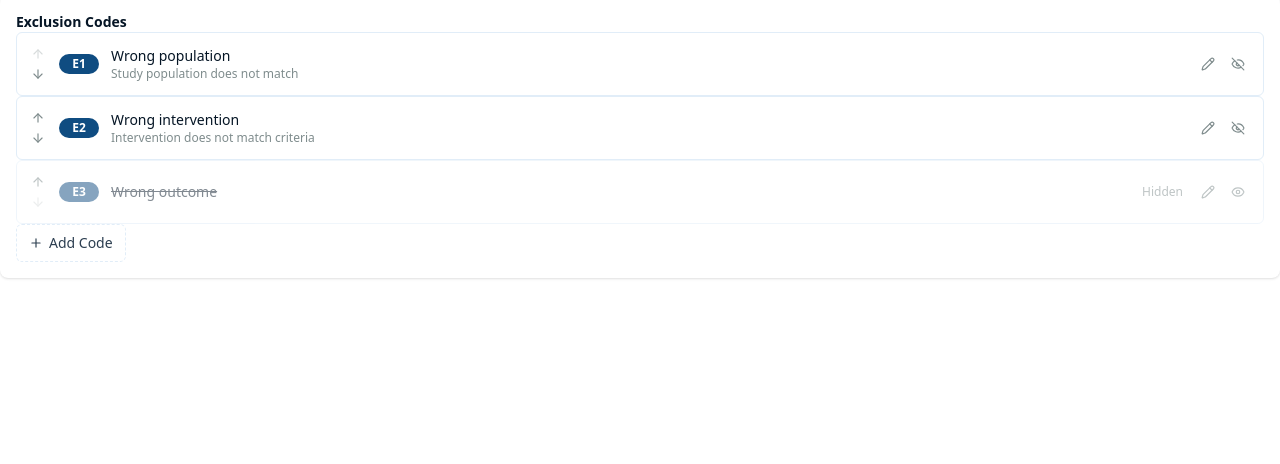
ExclusionCodeManager › submits new code via mutation
Click the button with test id "add-code-button" at (71, 243), box [16, 224, 126, 262]
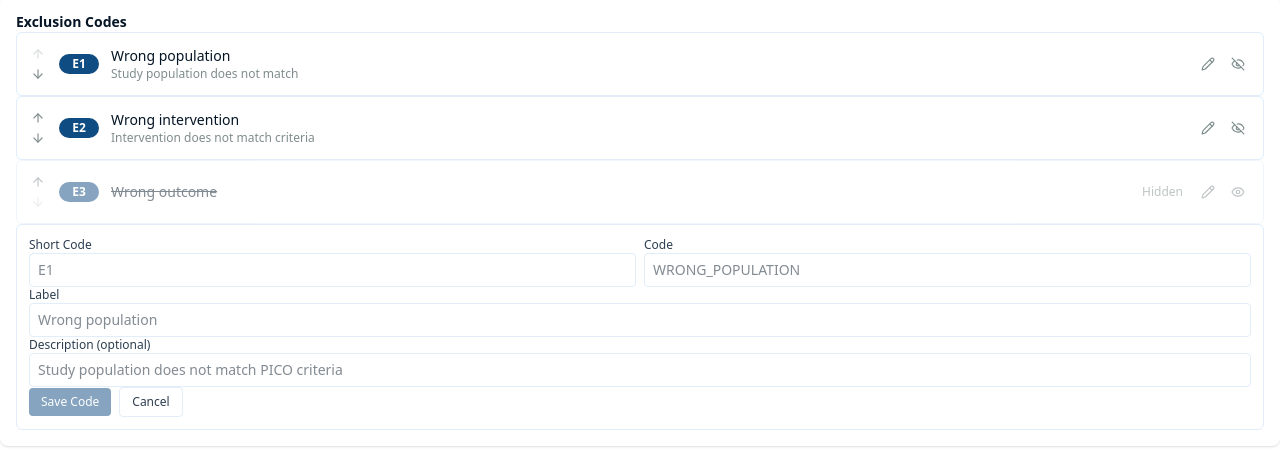
Type "E4" into the field with test id "new-short-code-input" at (332, 270), box [29, 253, 636, 287]
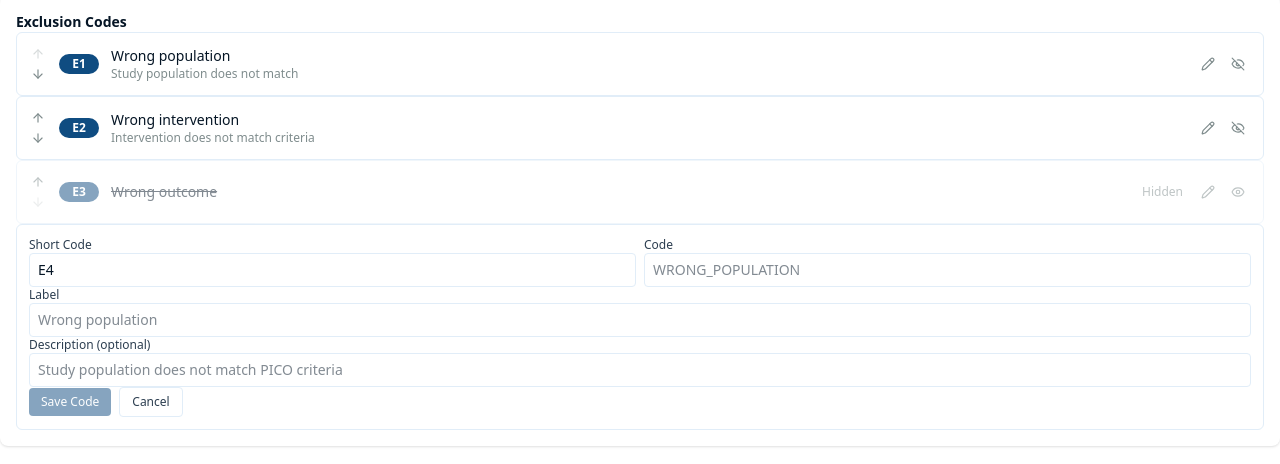
Type "WRONG_DESIGN" into the field with test id "new-code-input" at (948, 270), box [644, 253, 1251, 287]
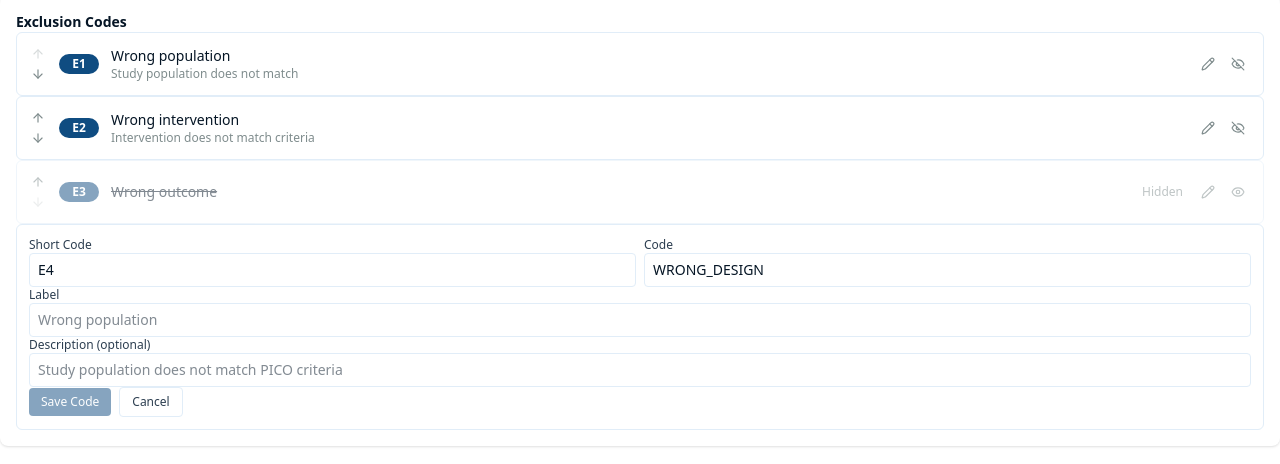
Type "Wrong study design" into the field with test id "new-label-input" at (640, 320), box [29, 303, 1251, 337]
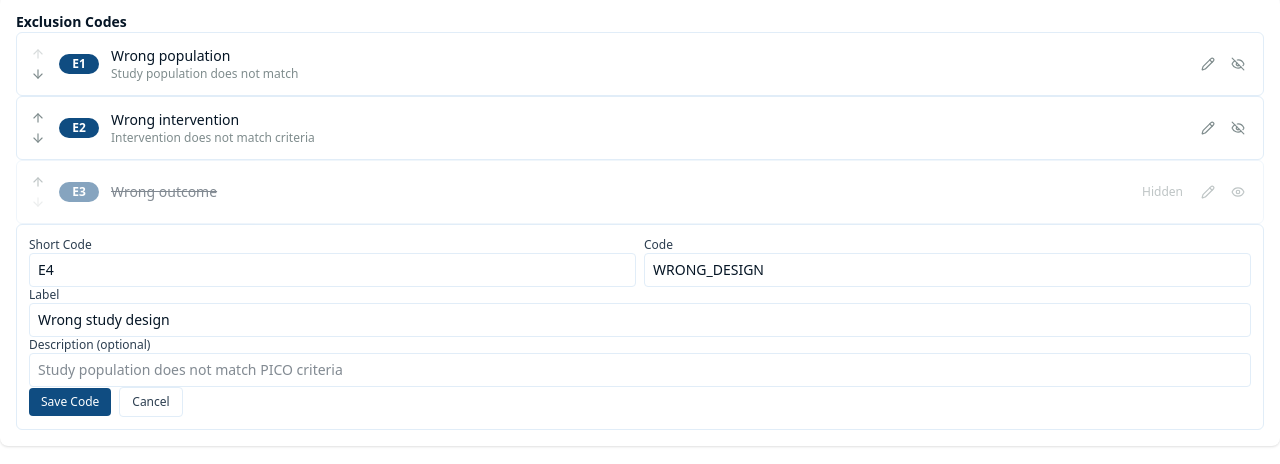
Type "Study design does not match" into the field with test id "new-description-input" at (640, 370), box [29, 353, 1251, 387]
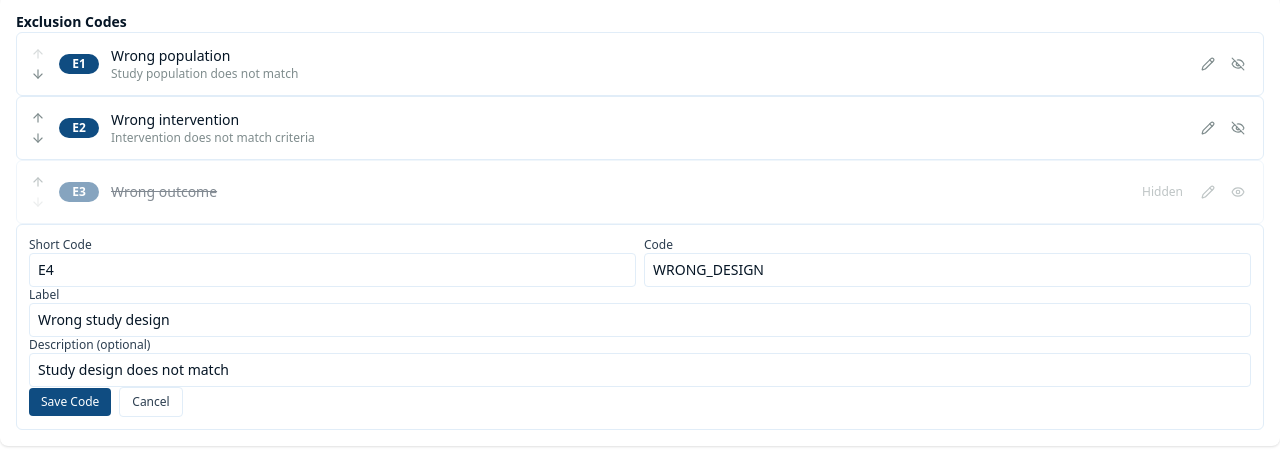
Click the button with test id "save-new-code-button" at (70, 402), box [29, 388, 111, 416]
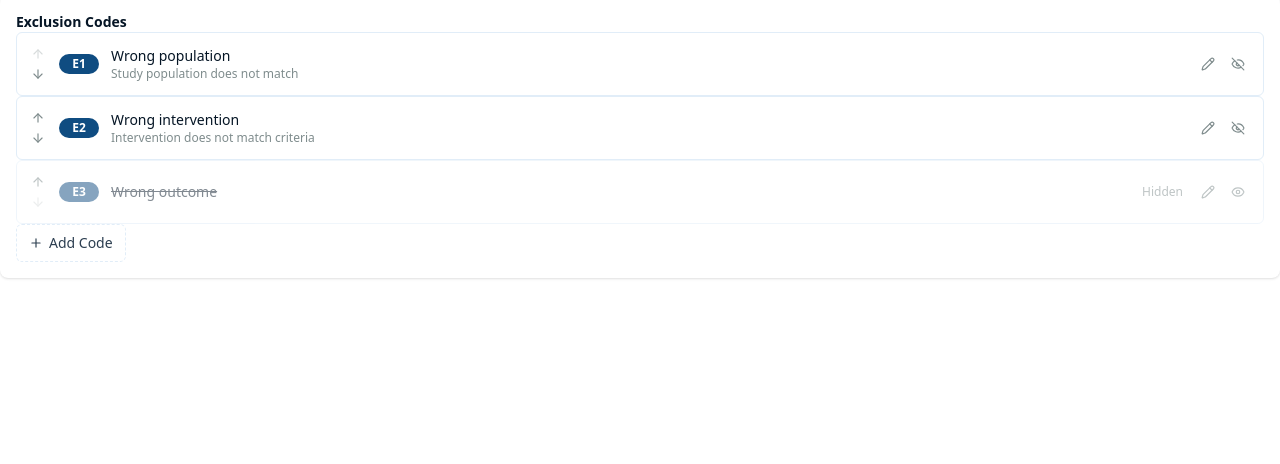
Now the element with test id "add-code-form" is gone
